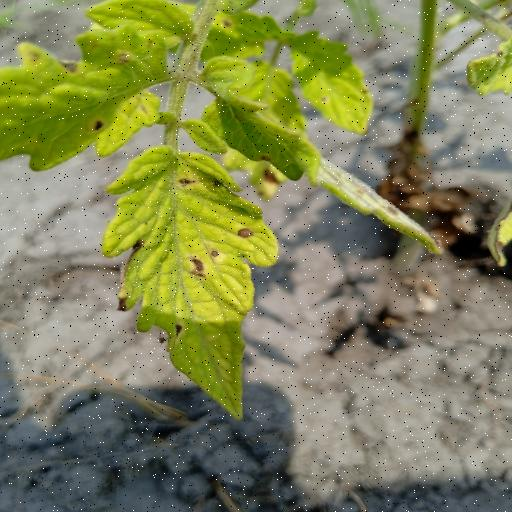Tomato_Brown_Spots: (102, 140, 284, 426), (0, 17, 187, 169)
